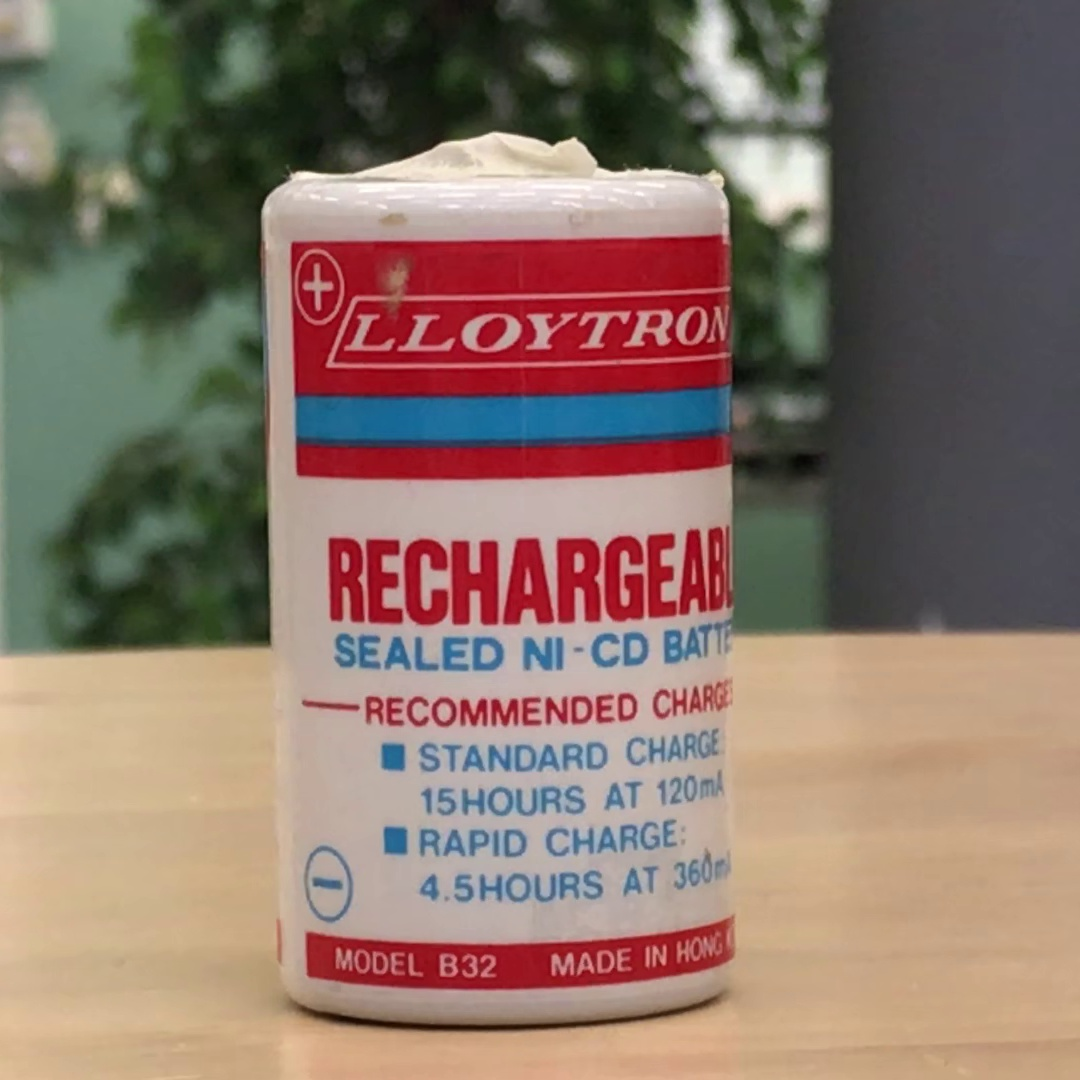keyword: (513, 622, 658, 680)
